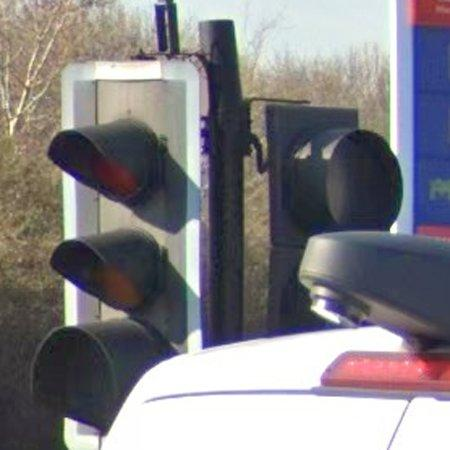traffic lights: (33, 25, 244, 435), (266, 104, 402, 333)
